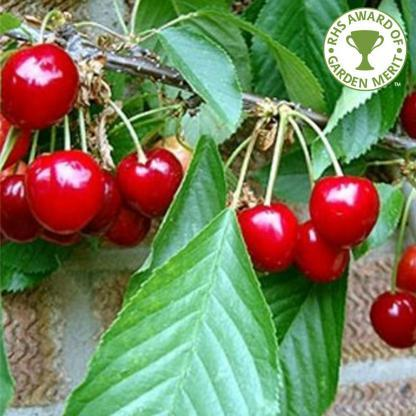Cherry leaf: (67, 210, 283, 416), (151, 27, 255, 140)
